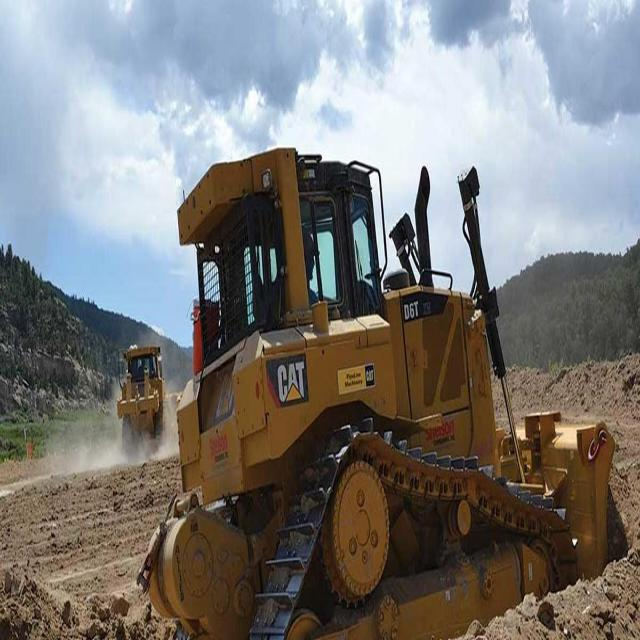Bulldozer: (133, 123, 620, 639), (106, 328, 176, 461)
